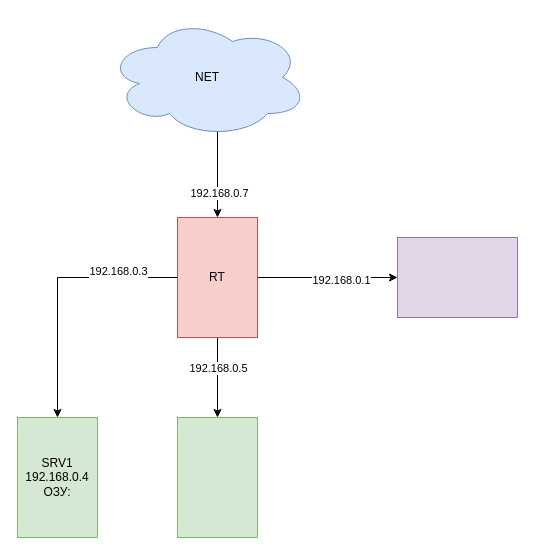
This 535x555 diagram has some shape labels left out. The shapes that lost their labels are listed below. From the top down, each one's centre as x and y in pixels, then its label:
At point (457, 277): "PC 192.168.0.2".
At point (217, 477): "SRV2 192.168.0.6".
